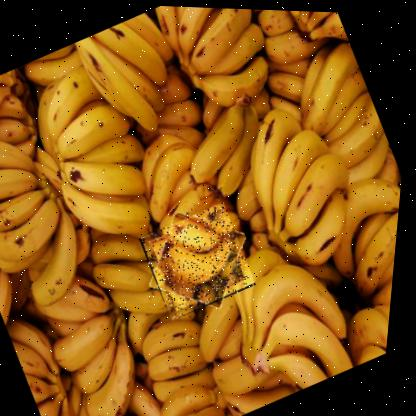banana: (137, 197, 267, 322)
